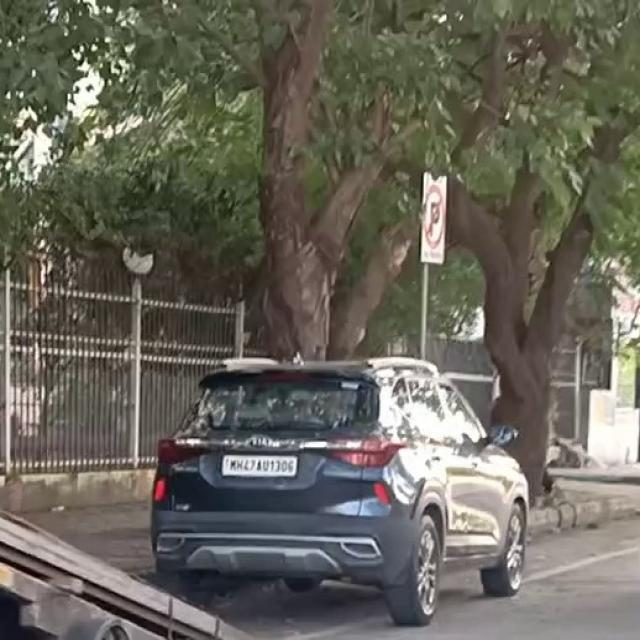Plate: (220, 455, 298, 477)
